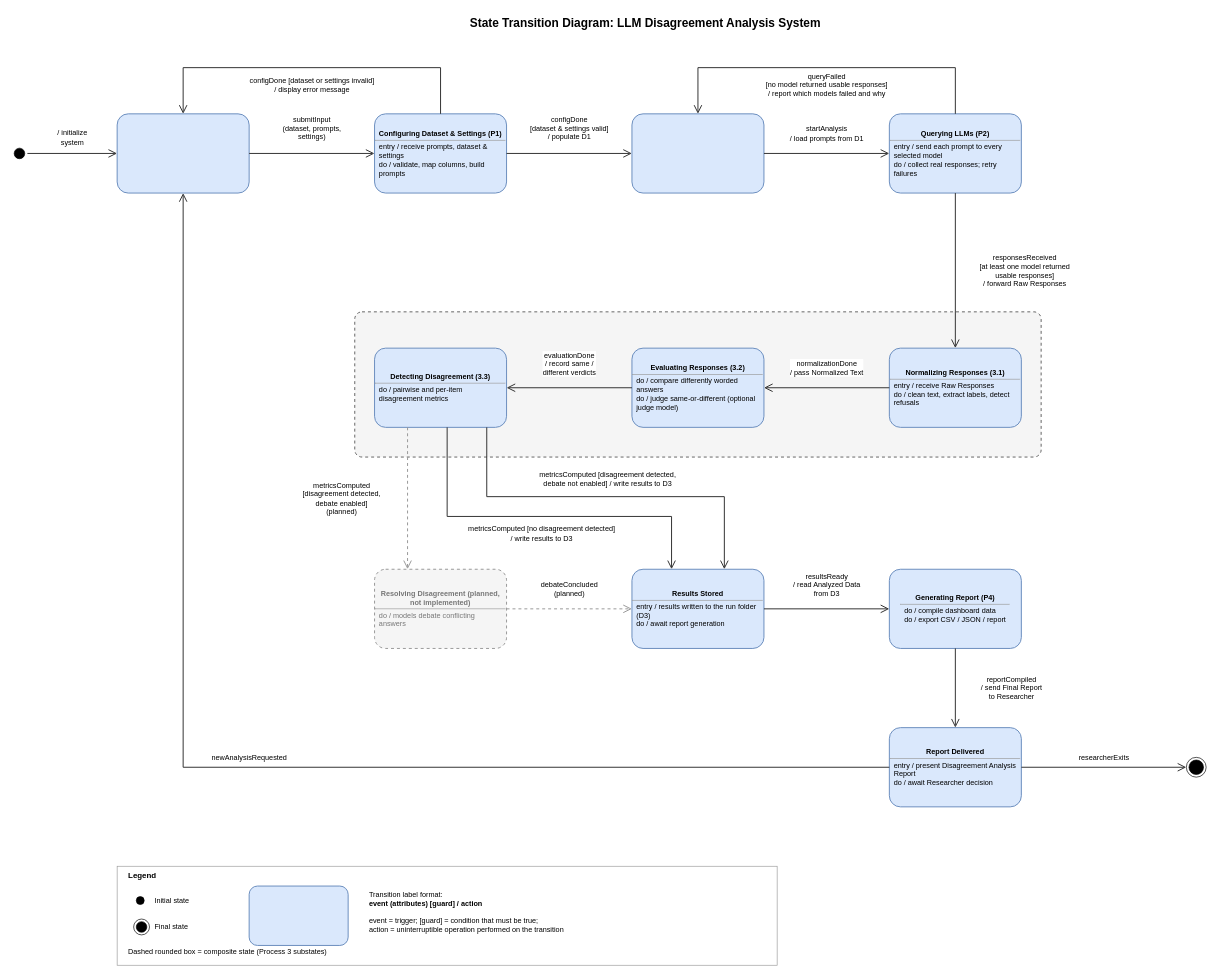
The diagram is 1218 pixels wide and 977 high, and some of its shapes have lost their labels. Here are the shapes that lost their labels. From the top down, the box of each, then its label:
(116, 113, 249, 193): Awaiting Input entry / await Prompts & Settings do / wait for Researcher input
(631, 113, 764, 193): Dataset Ready entry / D1 Evaluation Dataset populated do / await start command
(354, 311, 1041, 457): Analyzing Responses (Process 3: Analyze Disagreement)
(248, 885, 348, 946): State name entry / action do / activity exit / action
